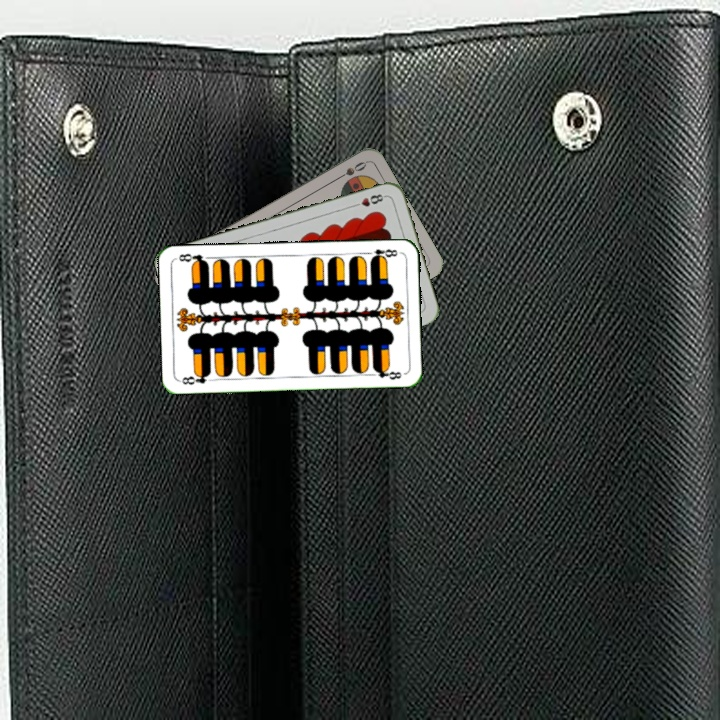E8: (177, 369, 213, 387), (362, 245, 400, 262)
H8: (349, 190, 389, 210)
SO: (331, 157, 369, 183)
